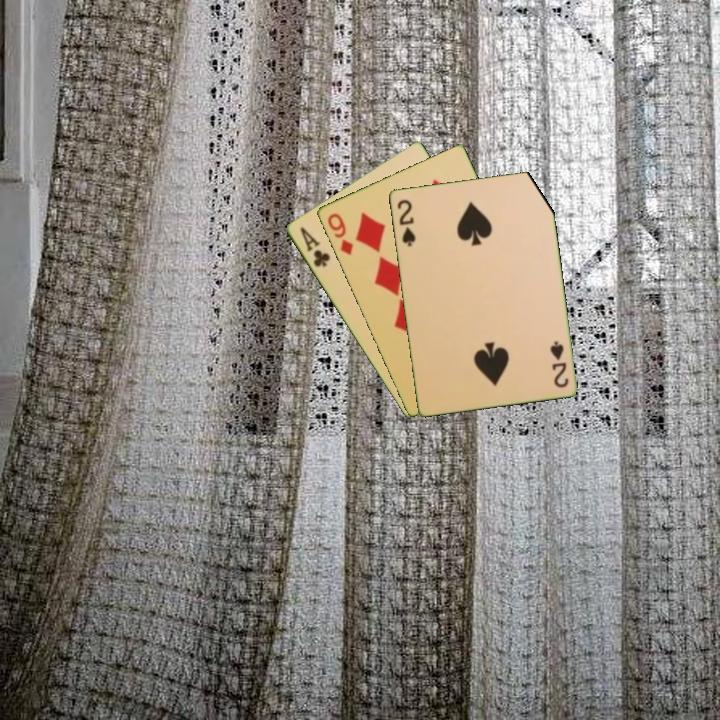2s: (393, 196, 418, 249), (546, 338, 571, 390)
9d: (324, 209, 356, 258)
Ac: (296, 223, 333, 270)
